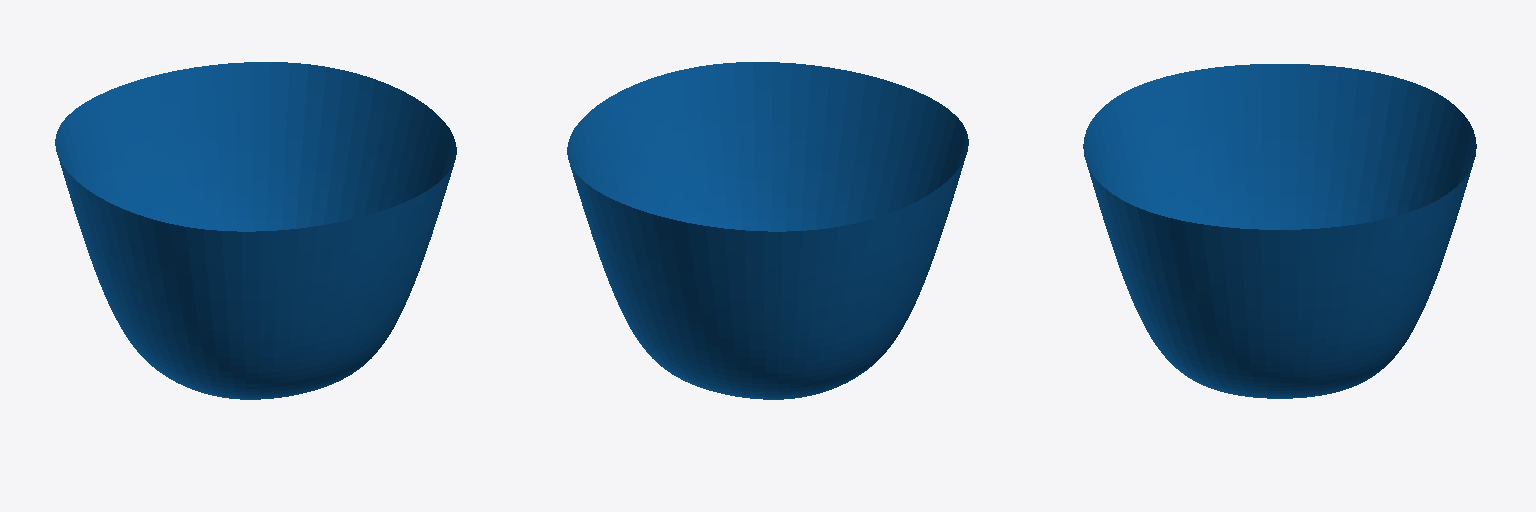
The model's file is tree.obj.
The picture shows the model from 3 angles: view 1: azimuth 30°, elevation 25°; view 2: azimuth 150°, elevation 25°; view 3: azimuth 270°, elevation 25°; orthographic projection.
Visible parts, largest first — view 1: ground; view 2: ground; view 3: ground.
Part boxes in pixels (x1,y1,x2,y2): ground: (55,62,456,399); ground: (567,62,968,399); ground: (1083,64,1476,398).
Size of the model in its own units: 377 by 231 by 377.